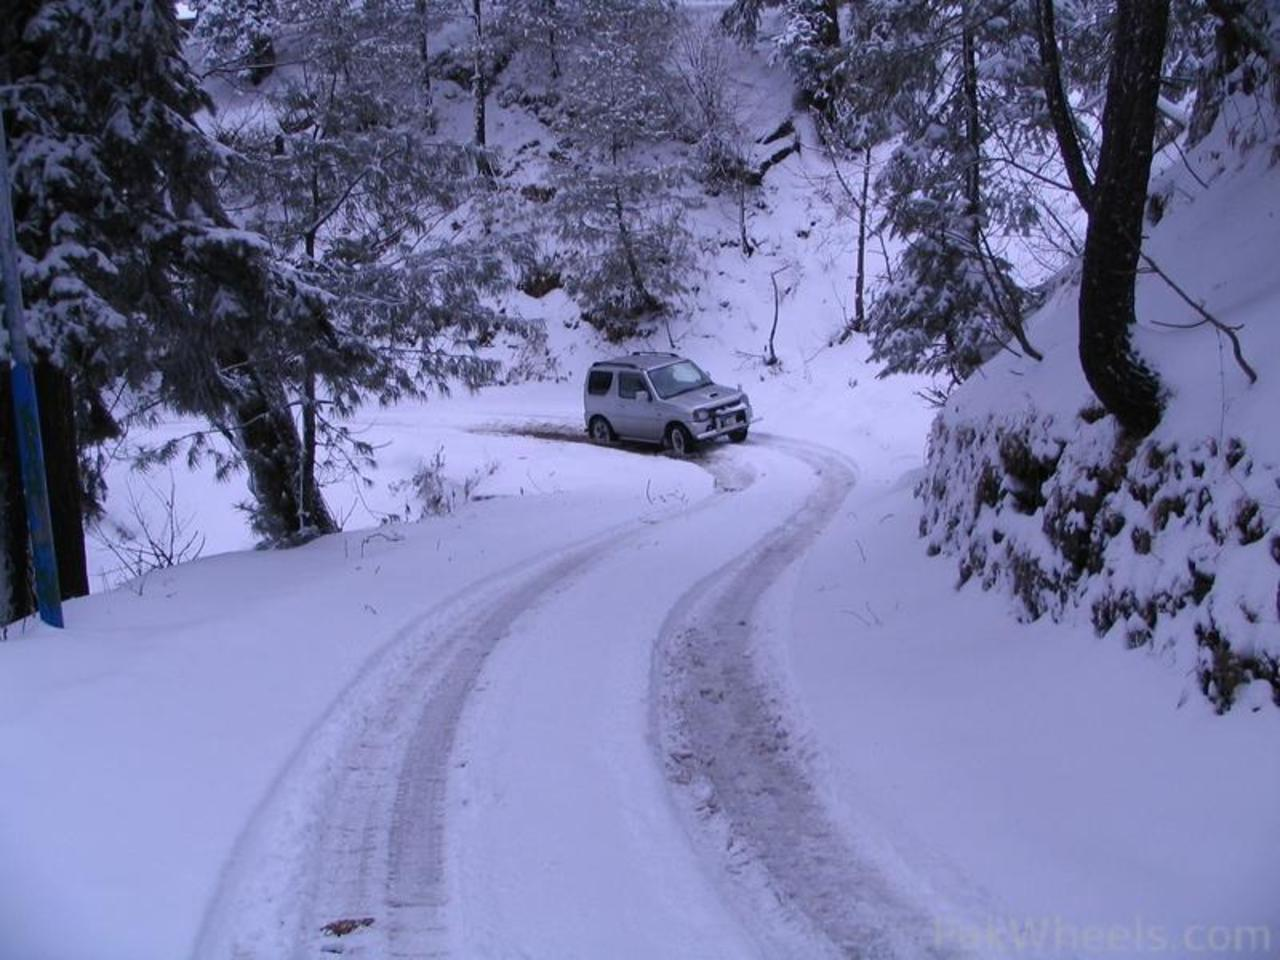car: (580, 355, 752, 457)
